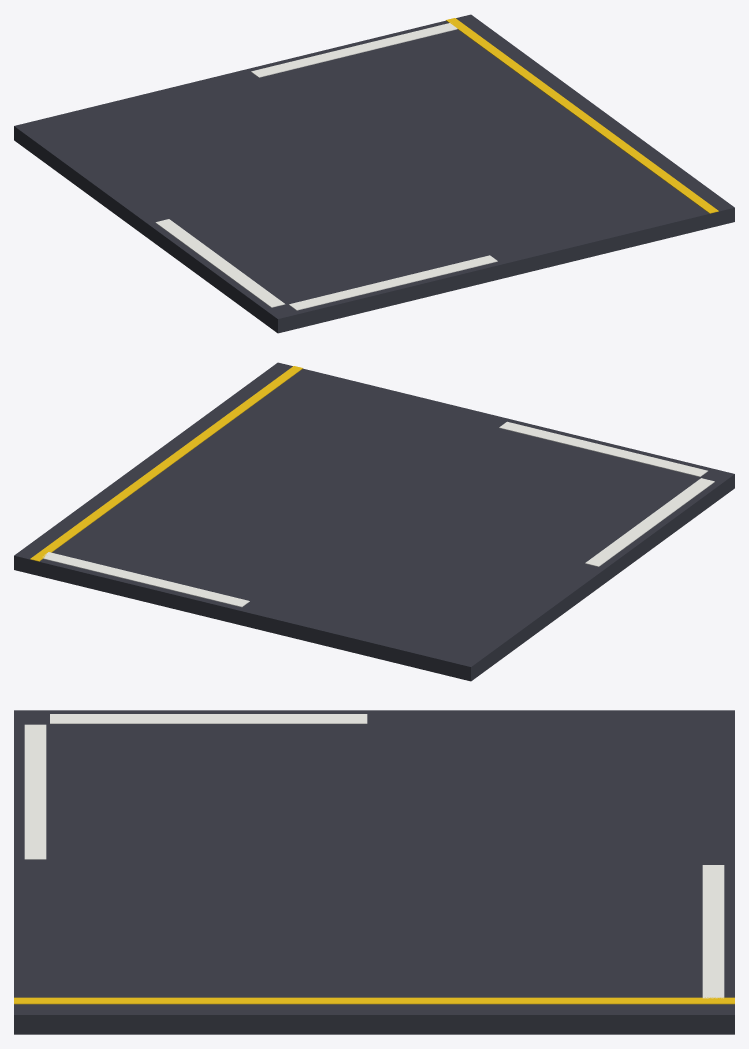
Rendered from env_road_t.fbx.
The picture shows the model from 3 angles, top to bottom: view 1: azimuth 30°, elevation 25°; view 2: azimuth 150°, elevation 25°; view 3: azimuth 270°, elevation 25°; orthographic projection. The views are drawn at different scales.
Visible parts, largest first — view 1: env_road_t_geo; view 2: env_road_t_geo; view 3: env_road_t_geo.
Part boxes in pixels (box(x1,y1,x2,y2)): env_road_t_geo: box(14, 14, 734, 333); env_road_t_geo: box(14, 362, 734, 681); env_road_t_geo: box(14, 710, 734, 1034).
Bounding box in the file's own units: 10 × 0.312 × 10.
